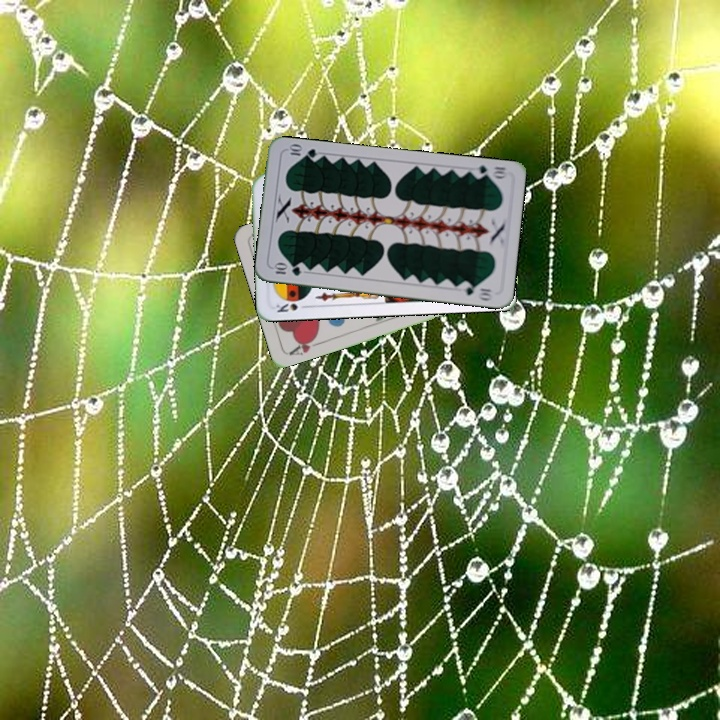G10: (469, 161, 510, 182), (270, 261, 303, 278)
HA: (285, 332, 324, 358)
SK: (272, 298, 311, 315)
